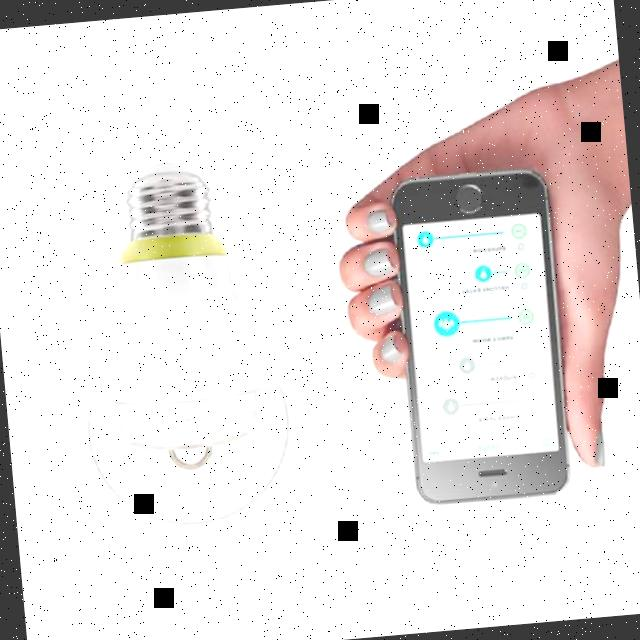light_bulb: (52, 143, 311, 547)
